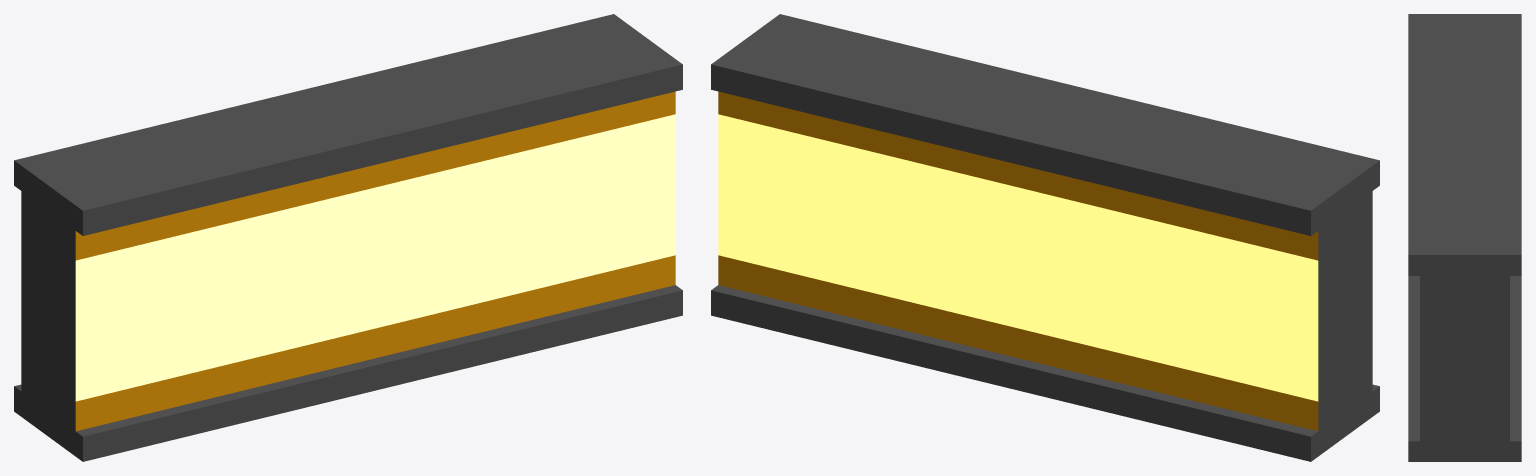
File: obj_dekotora_scrollingstrip.fbx
3 renders of one model, left to right at view 1: azimuth 30°, elevation 25°; view 2: azimuth 150°, elevation 25°; view 3: azimuth 270°, elevation 25°, orthographic. The views are drawn at different scales.
Parts seen in each view (by area): view 1: Cube.064; view 2: Cube.064; view 3: Cube.064.
Boxes of the visible parts, x1,y1,x2,y2 form: Cube.064: (14,14,682,461); Cube.064: (711,14,1379,461); Cube.064: (1408,14,1521,461).
Size of the model in its own units: 5 by 2 by 0.995.
